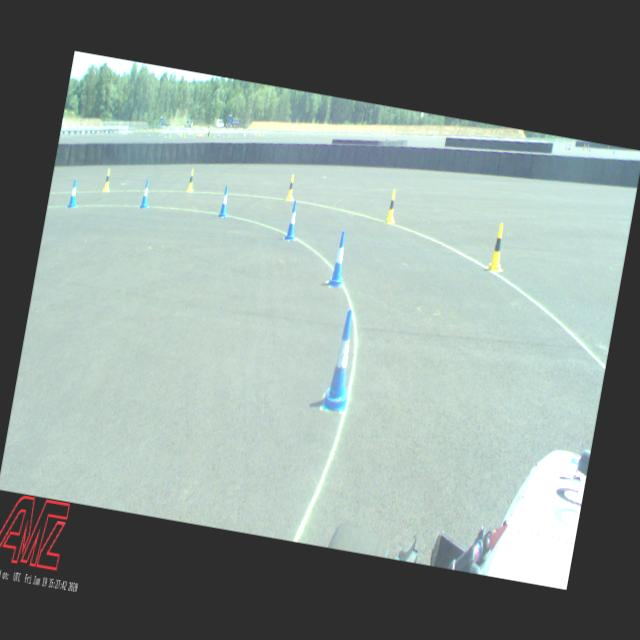blue_cone: (322, 308, 362, 412), (328, 230, 352, 288), (284, 200, 300, 240), (217, 185, 231, 218), (67, 178, 81, 208), (139, 178, 152, 208)
yellow_cone: (487, 222, 508, 272), (384, 188, 400, 224), (286, 173, 296, 200), (102, 168, 113, 192), (186, 168, 196, 192)
